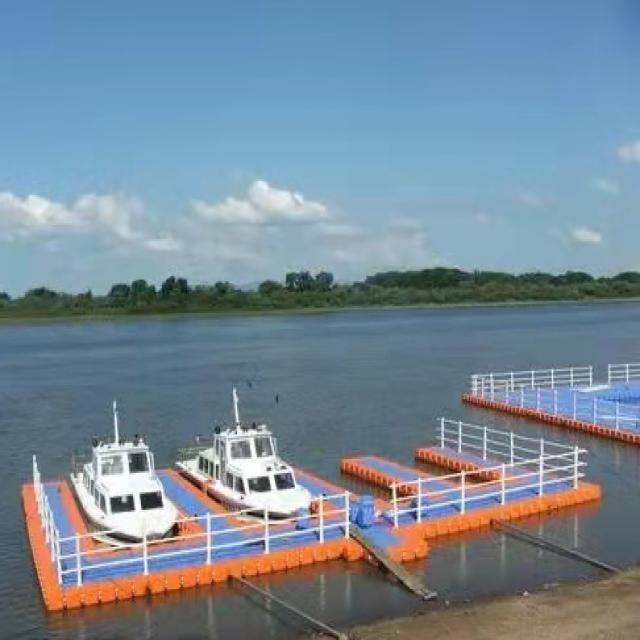houseboat: (190, 408, 316, 514), (71, 422, 184, 530)
